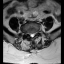CCS_stenosis: (31, 30, 33, 39)
LFS_normal: (35, 29, 37, 36)
LLS_normal: (33, 31, 35, 37)
RFS_stenosis: (27, 30, 29, 36)
RLS_normal: (29, 30, 31, 38)
